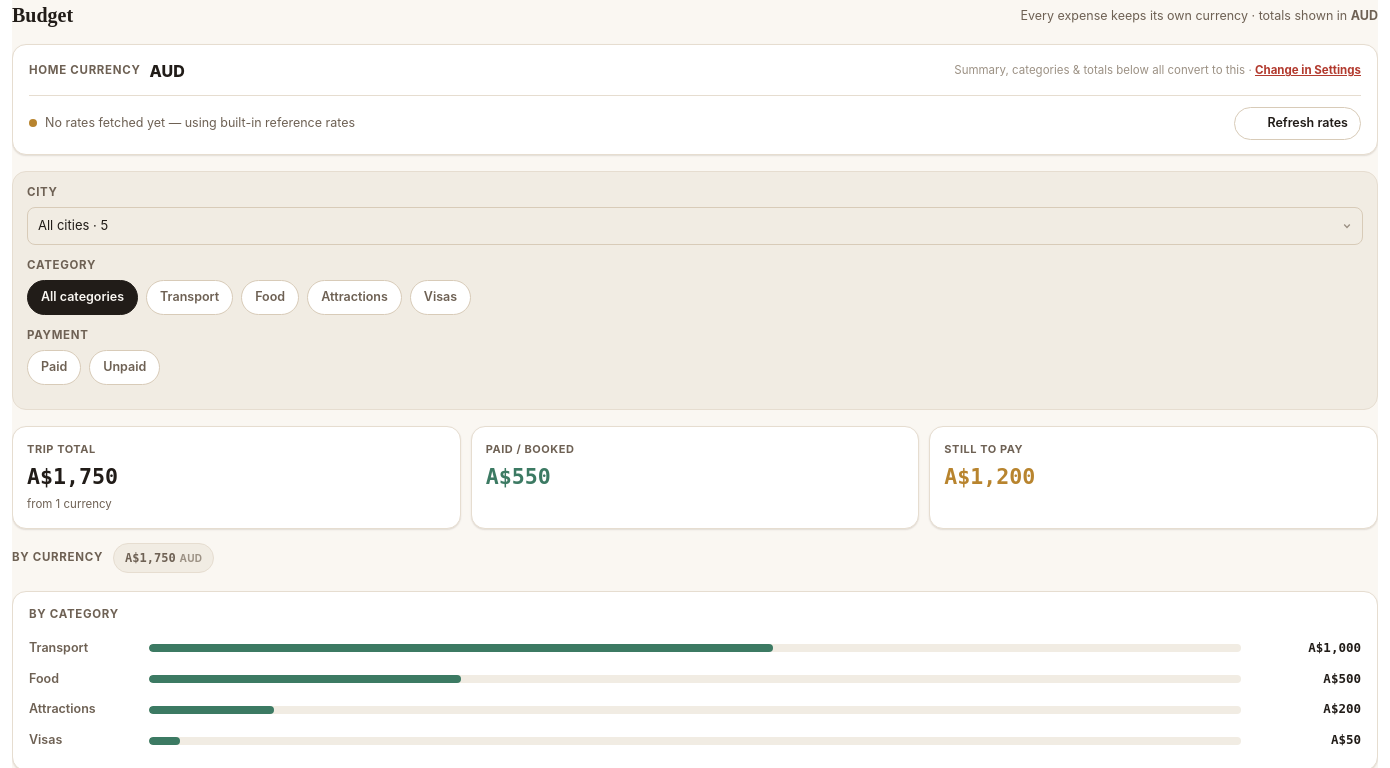
BudgetPanel — filters › reaches city-less expenses through the "Whole trip" option
Select "Whole trip · 1" in the dropdown labelled "City". click: (695, 226)
box: [27,207,1363,244]
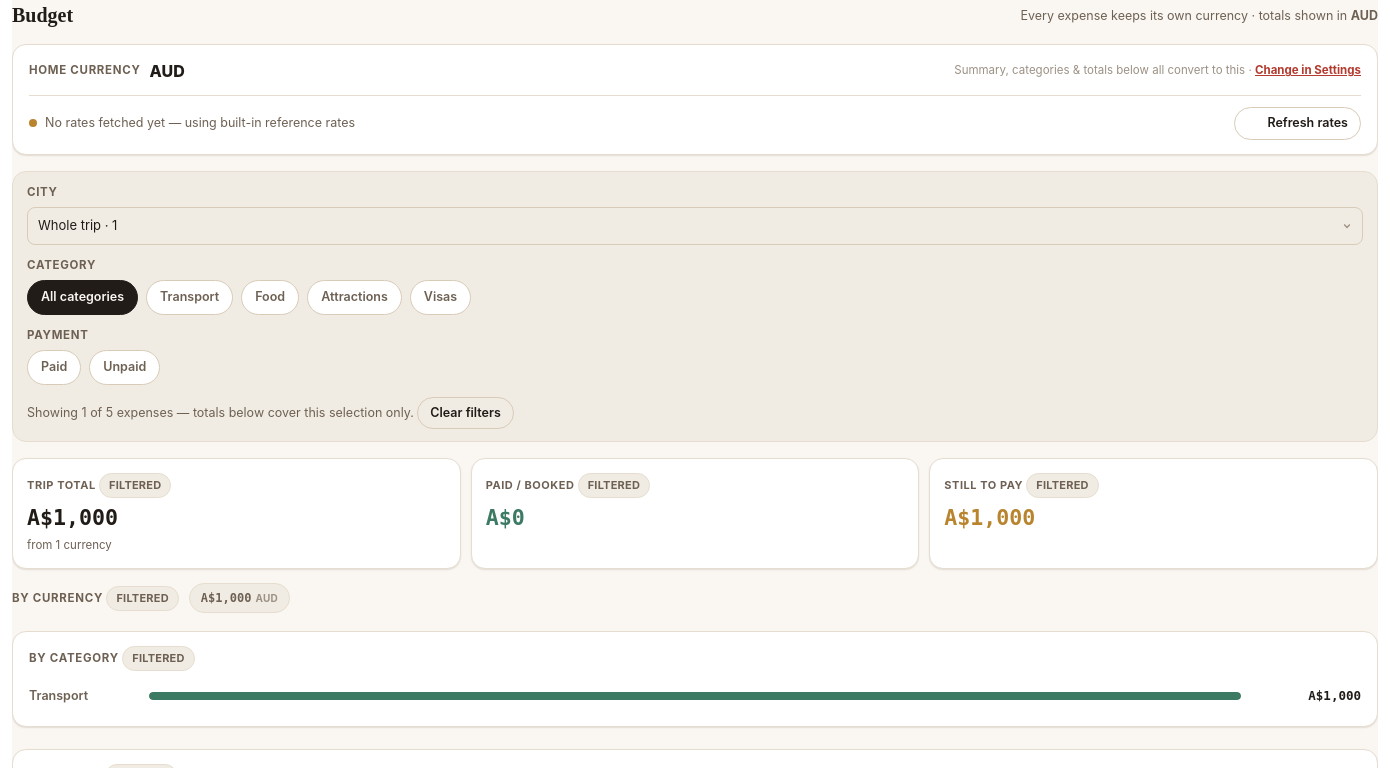
Expected: the text with class "home" below "Trip total" reads "A$1,000", [27,505,118,530]
